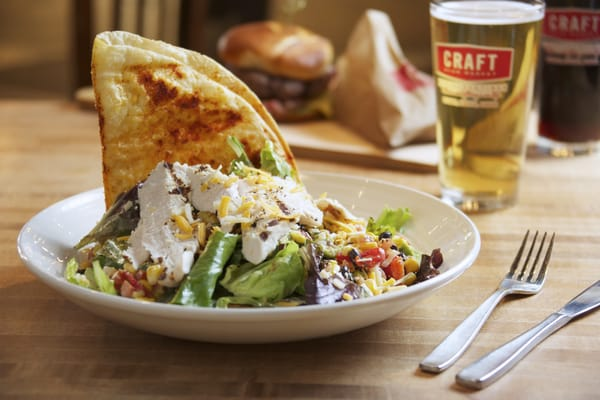burger: (419, 225, 556, 377), (457, 275, 600, 390)
pizza: (429, 0, 546, 213)
soup: (72, 29, 324, 307), (87, 29, 299, 214), (217, 18, 337, 122)
